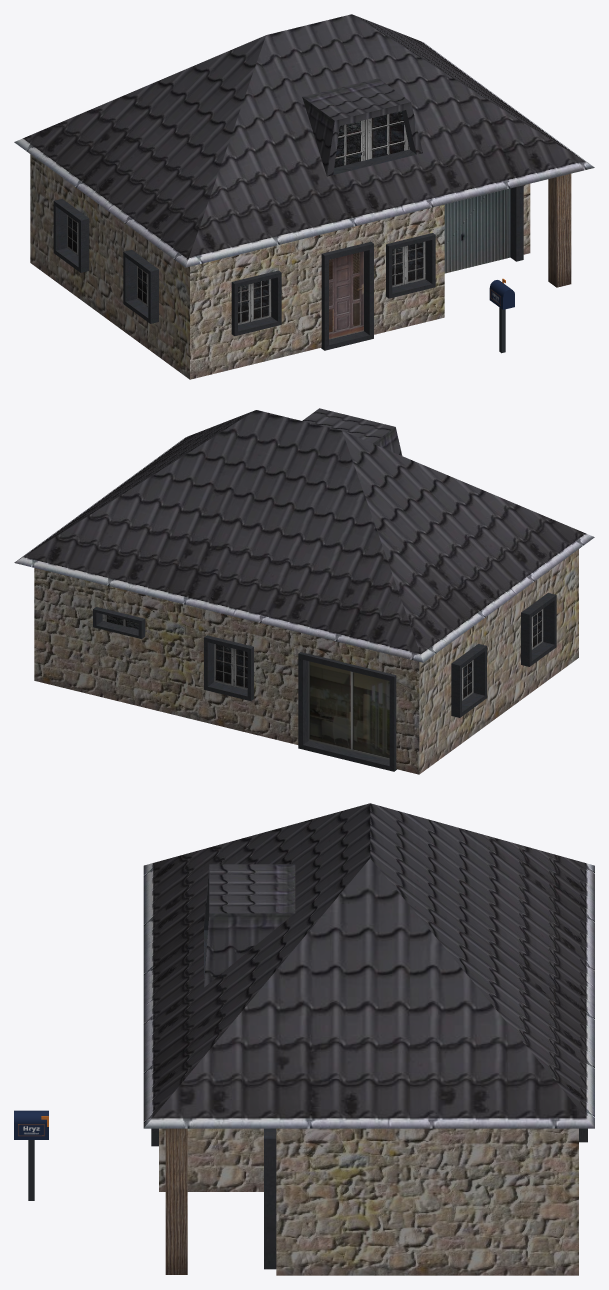
File: casa3-b.glb
3 renders of one model, top to bottom at view 1: azimuth 30°, elevation 25°; view 2: azimuth 150°, elevation 25°; view 3: azimuth 270°, elevation 25°, orthographic. The views are drawn at different scales.
Parts seen in each view (by area): view 1: Casa, CaixaCorreio; view 2: Casa; view 3: Casa, CaixaCorreio.
Boxes of the visible parts, left/top/right/bottom form: Casa: left=14, top=14, right=594, bottom=379; CaixaCorreio: left=489, top=278, right=514, bottom=353; Casa: left=14, top=408, right=594, bottom=774; Casa: left=143, top=803, right=594, bottom=1275; CaixaCorreio: left=14, top=1110, right=48, bottom=1200.
Bounding box in the file's own units: 8.88 × 5.16 × 8.3.
Materials: 5 (2 with a texture image).
